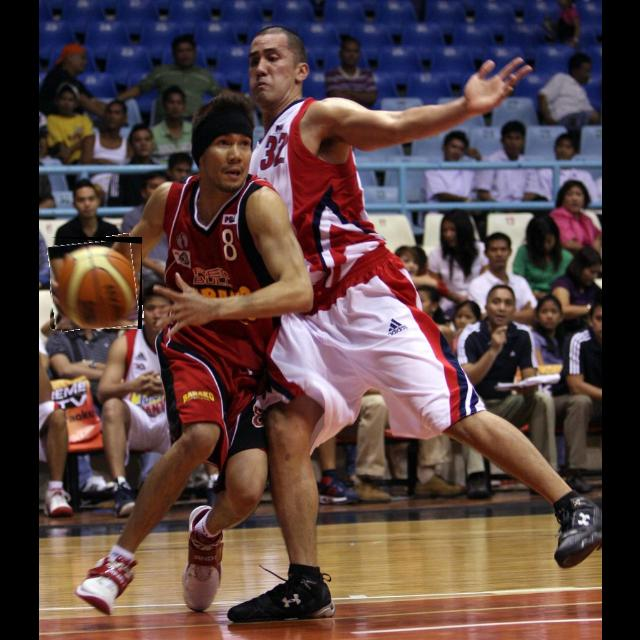Football: (50, 237, 142, 329)
